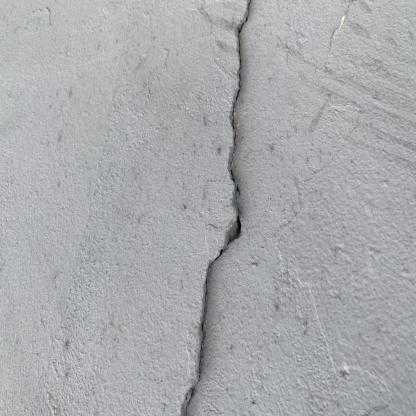crack: (186, 0, 251, 416)
